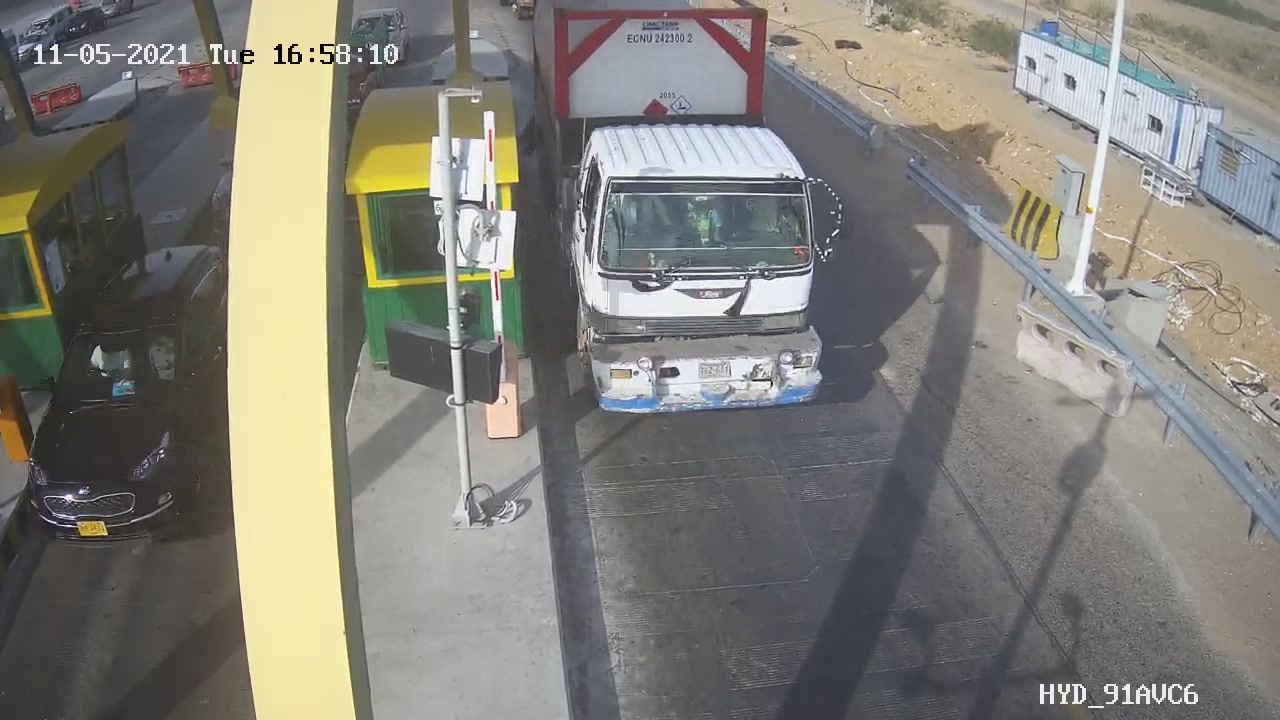F6: (516, 1, 864, 444)
